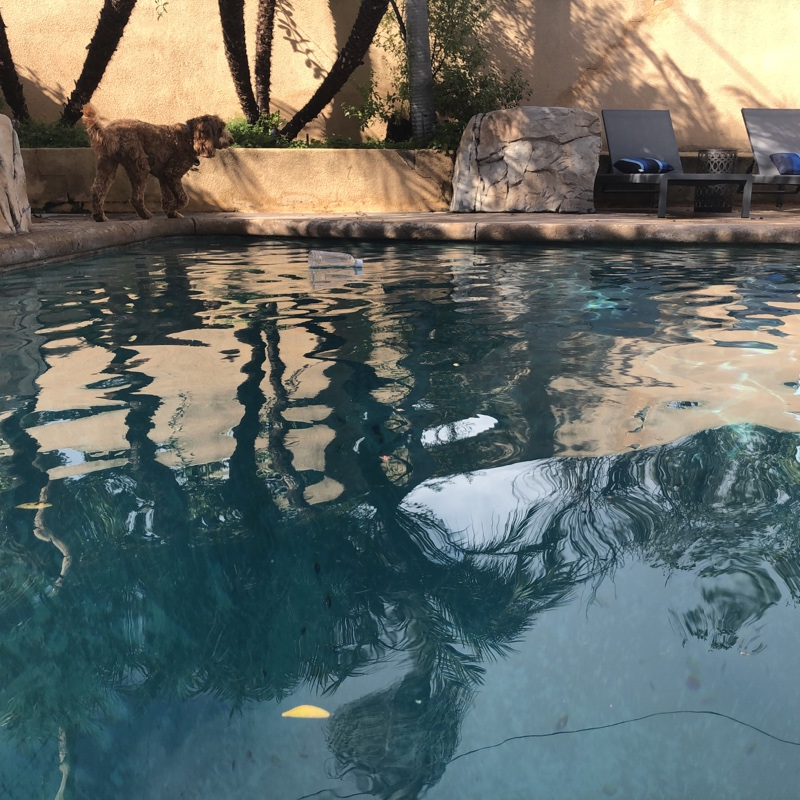Plastic Bottle: (307, 250, 364, 272)
